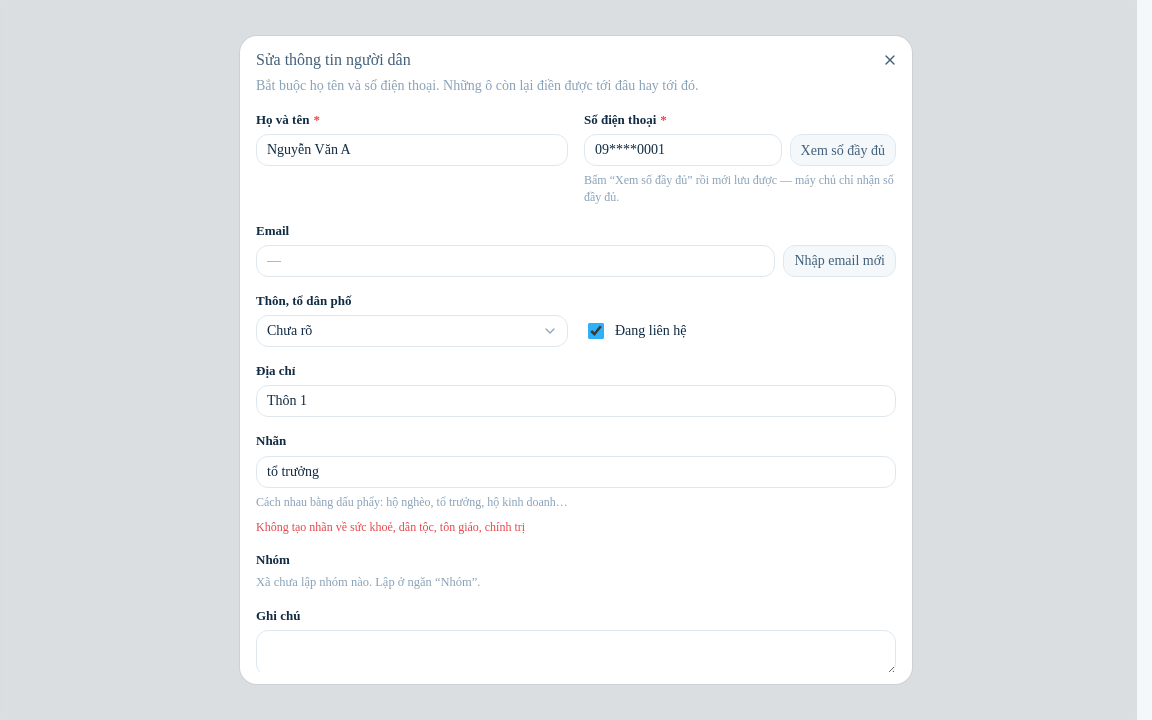
Scenario: edit dialog — Xem số đầy đủ (ADR 0097 D2) › a refused reveal keeps the mask, says the chapter's sentence, and lets the person try again
This screenshot has width=1152, height=720.
Click the button "Xem số đầy đủ". click: (843, 150)
box: [790,134,896,166]
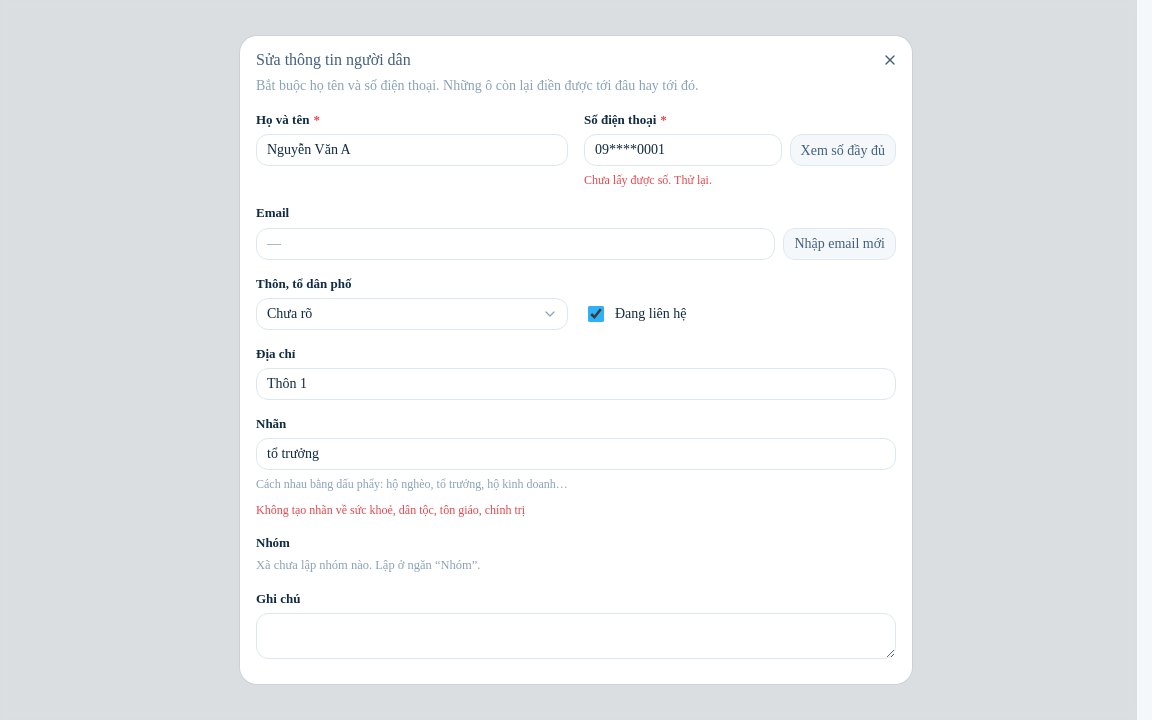
Expected: the field labelled "Số điện thoại*" holds "09****0001", [584,134,782,166]
Result: the message "Chưa lấy được số. Thử lại." is shown at [584,173,712,187]
